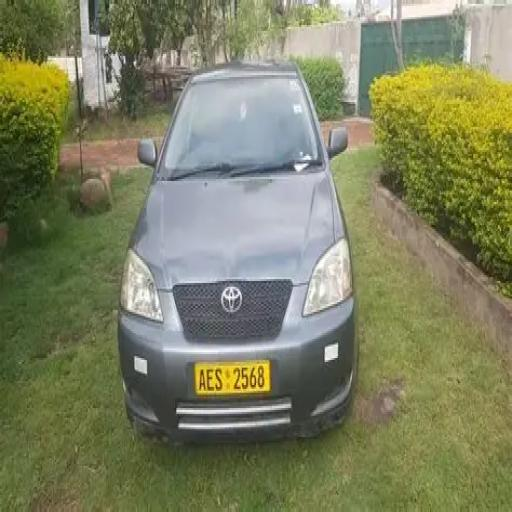number-plates: (196, 358, 268, 393)
